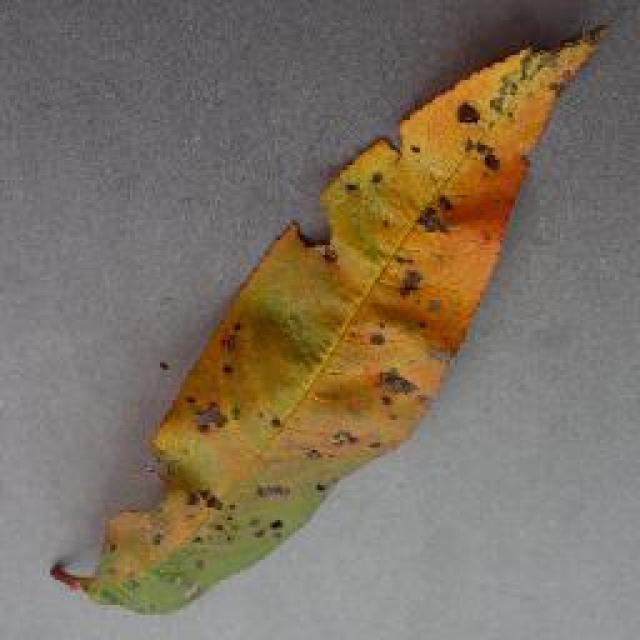Bacterial_spot: (36, 10, 619, 632)
